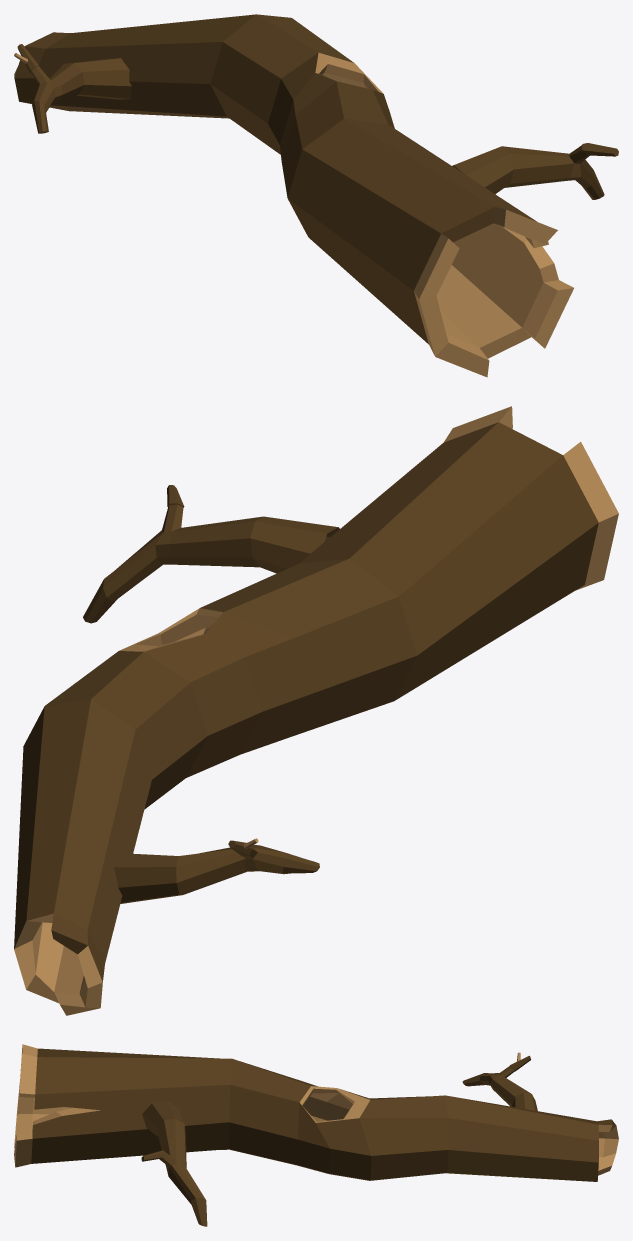
Rendered from Log.fbx.
3 renders of one model, top to bottom at view 1: azimuth 30°, elevation 25°; view 2: azimuth 150°, elevation 25°; view 3: azimuth 270°, elevation 25°, orthographic. The views are drawn at different scales.
Parts seen in each view (by area): view 1: Circle; view 2: Circle; view 3: Circle.
Boxes of the visible parts, x1,y1,x2,y2 form: Circle: (14, 14, 618, 377); Circle: (14, 406, 618, 1015); Circle: (14, 1044, 618, 1226).
Bounding box in the file's own units: 527 × 252 × 1025.
